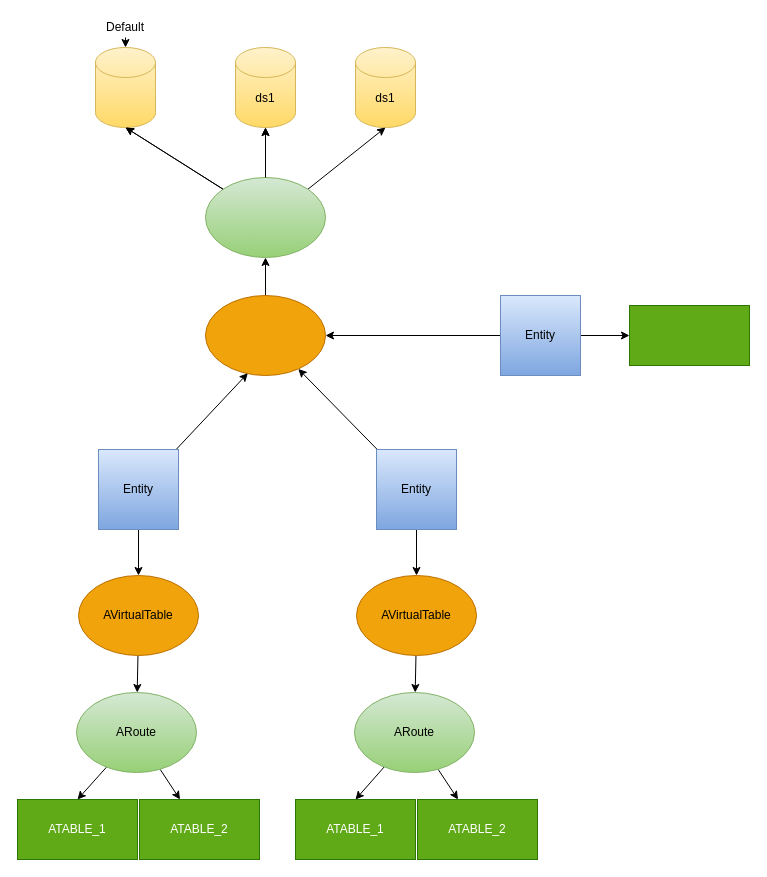
Image size: 767x877. Some labels were removed from this diagram. The shapes that lost their labels are listed below. From the top down, each one's centre as x and y in pixels, then its label:
At point (125, 87): "ds0".
At point (265, 217): "ShardingRoute".
At point (265, 335): "virtual data source".
At point (689, 335): "no sharding table".
